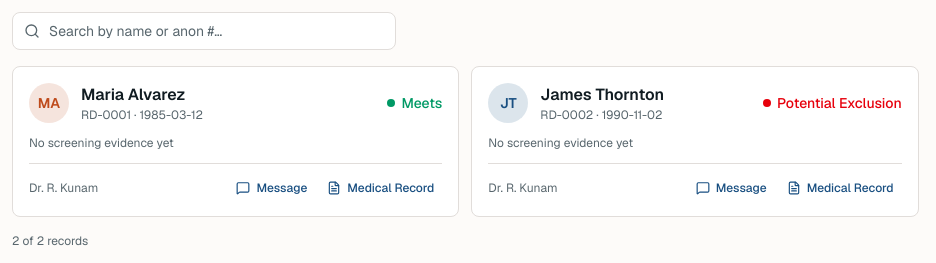
Scenario: PatientsTable › filters rows by name as the user types
The image size is (936, 263).
Type "thornton" into the field named "Search patients".
click(204, 31); type("thornton")  # box top-left (12, 12), bottom-right (396, 50)
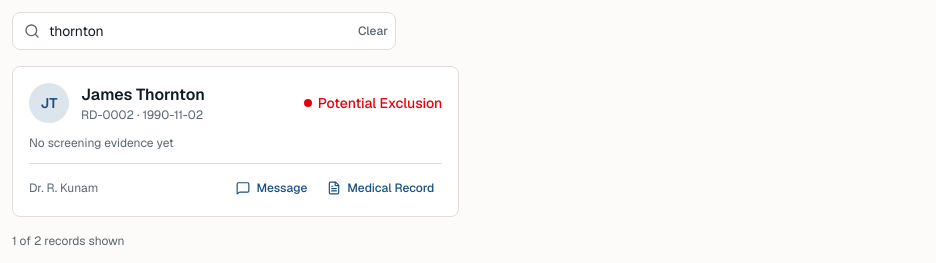
expect the text "James Thornton" is shown: met, box top-left (81, 83), bottom-right (205, 107)
expect the text "Maria Alvarez" is gone: met
